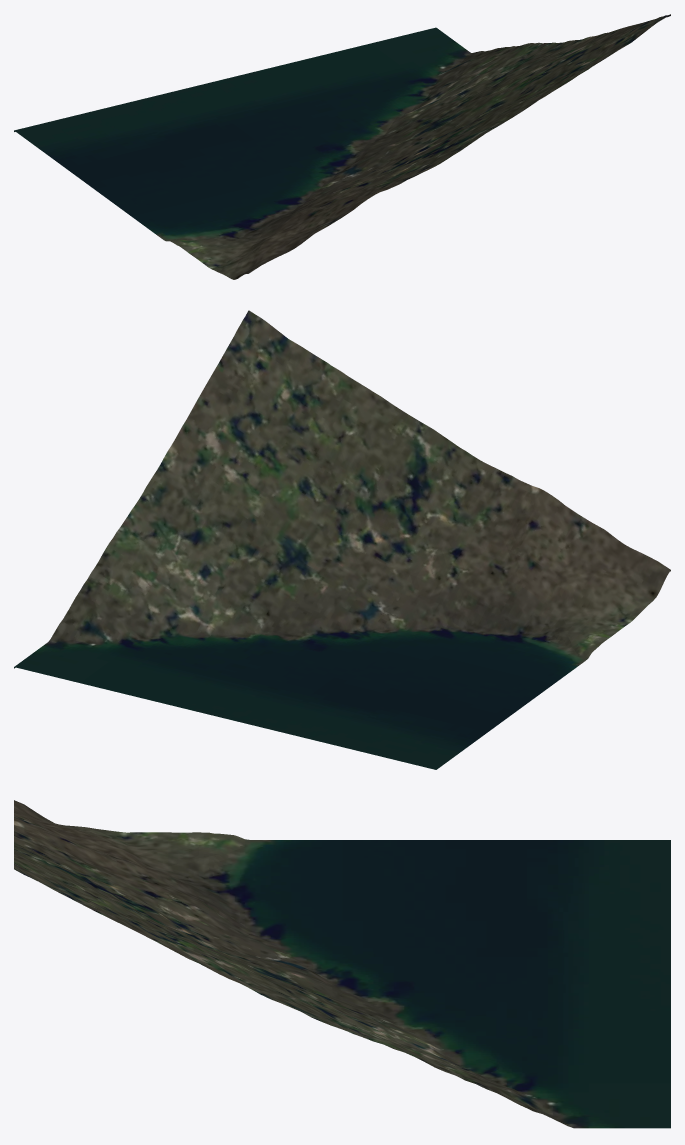
3 views of the same model, one above another, from view 1: azimuth 30°, elevation 25°; view 2: azimuth 150°, elevation 25°; view 3: azimuth 270°, elevation 25° (orthographic). The views are drawn at different scales.
Size of the model in its own units: 250 by 106 by 241.
1 material, 1 textured.
